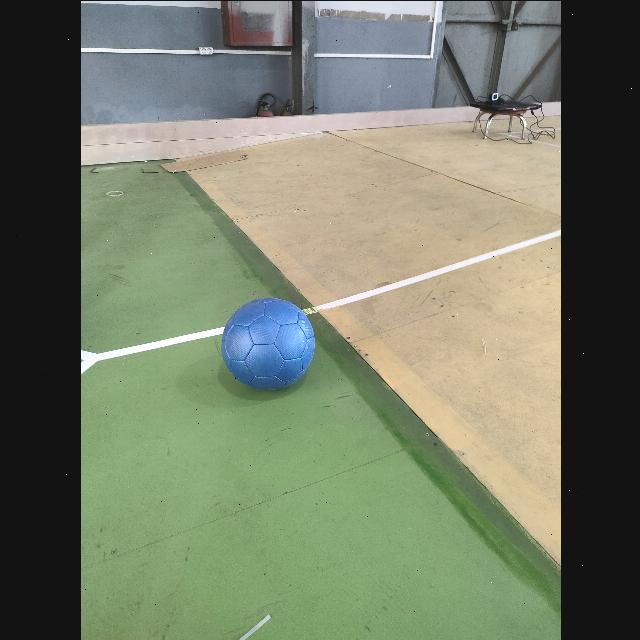B: (220, 297, 314, 389)
